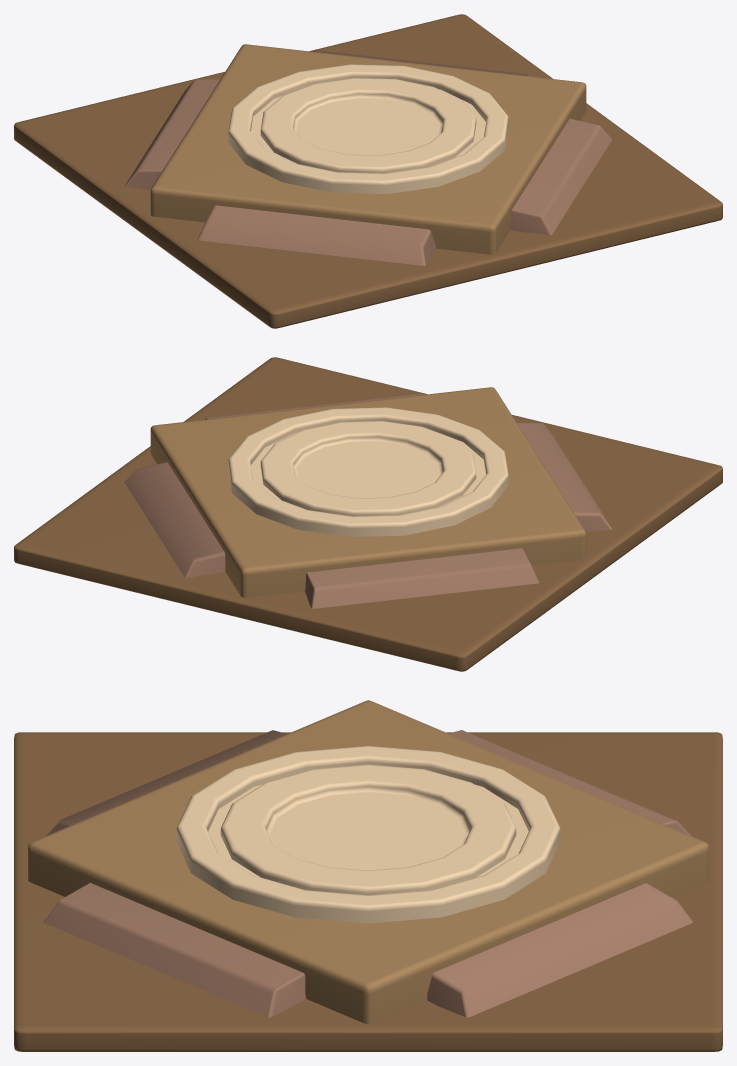
File: PressurePlate.fbx
3 views of the same model, one above another, from view 1: azimuth 30°, elevation 25°; view 2: azimuth 150°, elevation 25°; view 3: azimuth 270°, elevation 25° (orthographic). The views are drawn at different scales.
Visible parts, largest first — view 1: Cube.006, Cube, PressurePlate, Cube.005; view 2: Cube.006, Cube, PressurePlate, Cube.005; view 3: Cube.006, Cube, PressurePlate, Cube.005.
Part boxes in pixels (box(x1,y1,x2,y2)): Cube.006: box(14, 14, 722, 328); Cube: box(150, 44, 586, 254); PressurePlate: box(228, 64, 508, 193); Cube.005: box(124, 50, 612, 265); Cube.006: box(14, 357, 722, 671); Cube: box(150, 387, 586, 597); PressurePlate: box(228, 407, 508, 536); Cube.005: box(124, 393, 612, 608); Cube.006: box(14, 732, 722, 1051); Cube: box(28, 700, 708, 1023); PressurePlate: box(176, 746, 560, 923); Cube.005: box(43, 730, 693, 1017).
Size of the model in its own units: 147 by 17.83 by 147.
